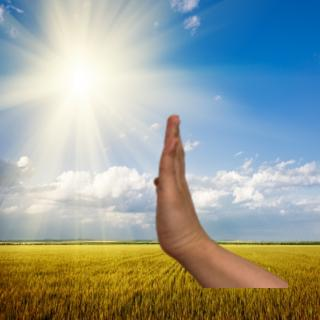RIGHT: (145, 110, 211, 267)
